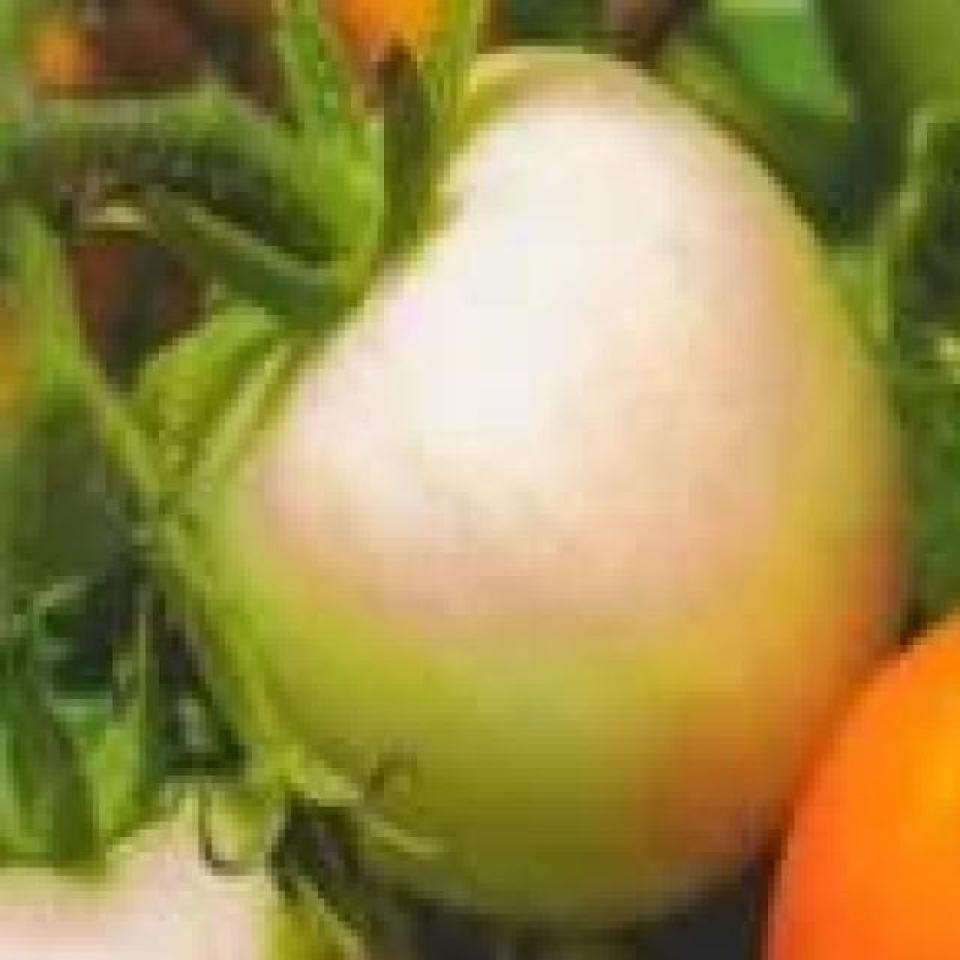Sunscald: (205, 80, 794, 642), (0, 802, 244, 940)
